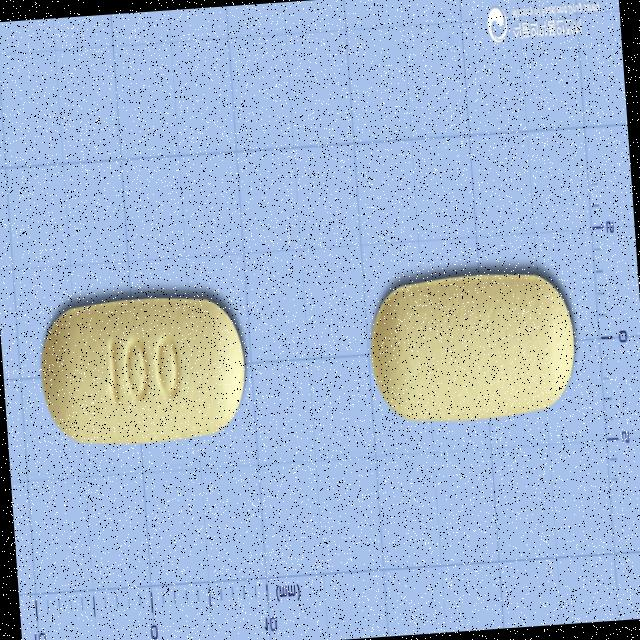Noxafil Gastro-Resistant Tab: (36, 288, 250, 452), (366, 269, 580, 429)
